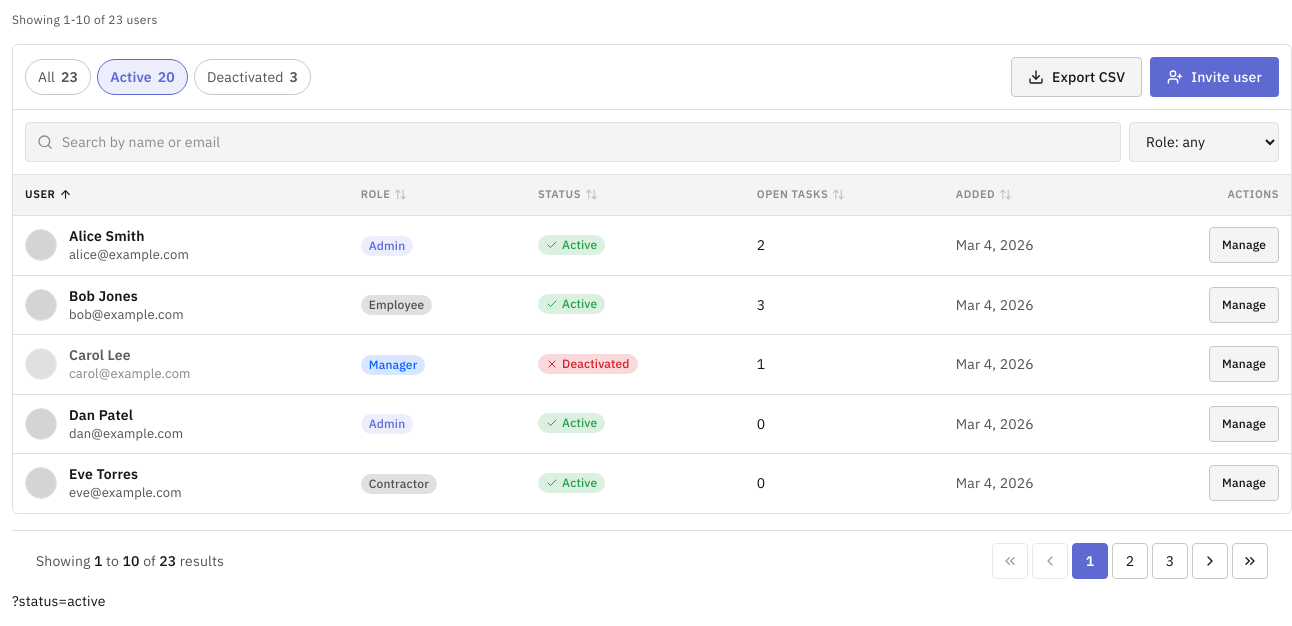
Test case: UserManagement (table) › TC-U06: paging asks the server for the next page and keeps the filters
Expected: the text "Bob Jones" is shown, [69,286,138,304]
Click the button named "Next page". click: click(1210, 561)
box: [1192,543,1228,579]
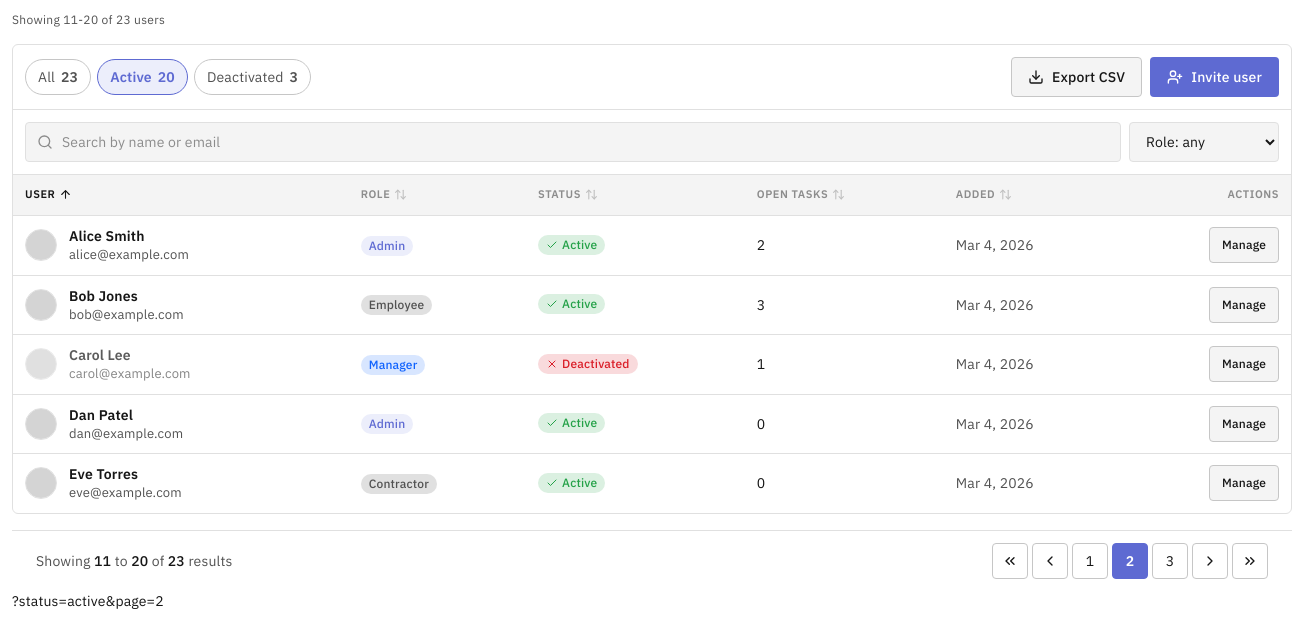
Expected: the text with test id "where" reads "?status=active&page=2", [12,592,164,610]
